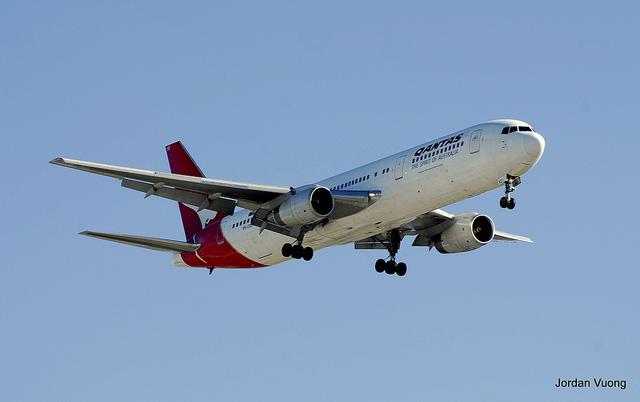airplane: (46, 117, 547, 277)
